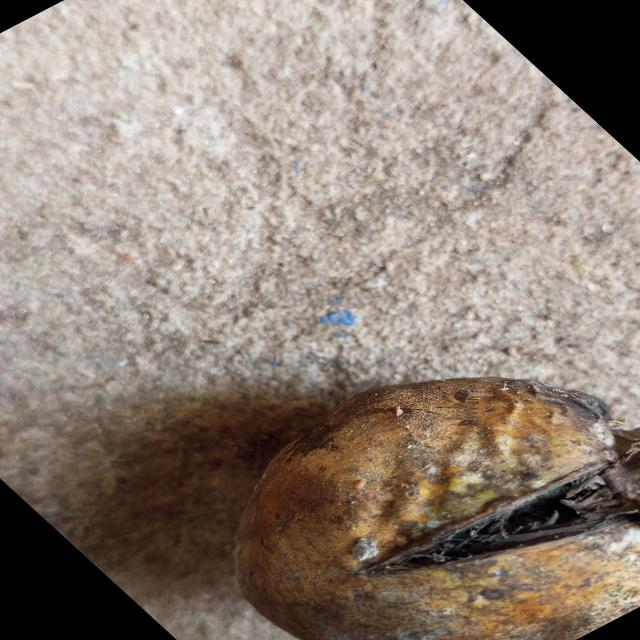damaged: (236, 378, 640, 640)
